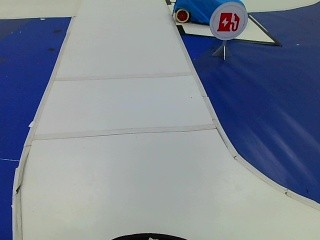battery: (208, 3, 247, 40)
car: (167, 0, 246, 28)
